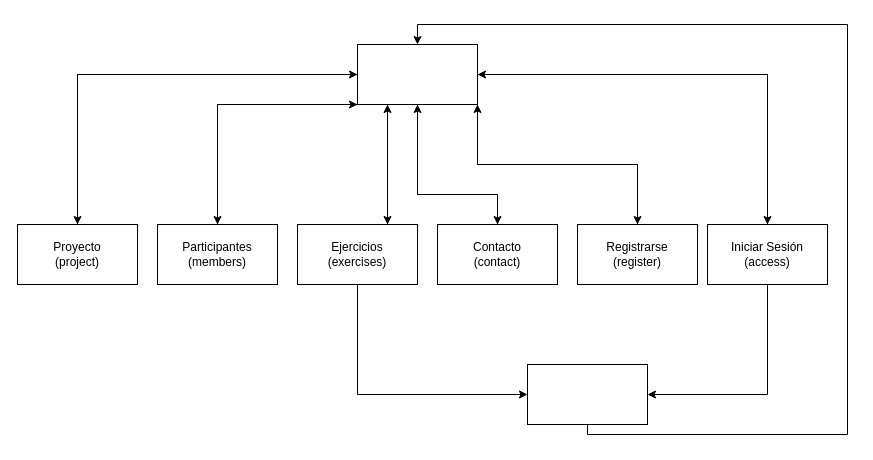
The diagram is 873 pixels wide and 460 high, and some of its shapes have lost their labels. Each missing label, with the centre of its shape:
Inicio / Virtrael (home): (417,74)
Sesión (session): (587,394)
